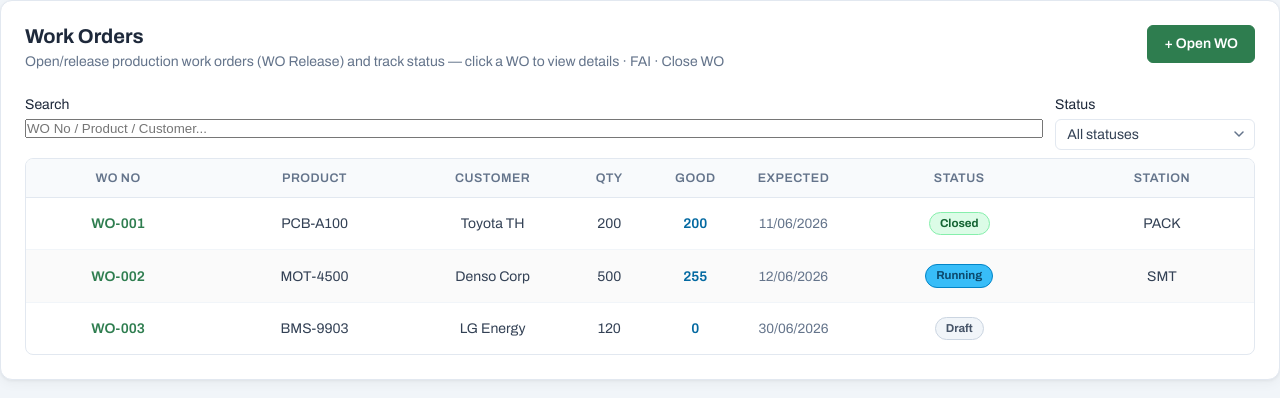
Test: WorkOrdersPage search/filter › search box filters by customer name (case-insensitive)
In the field with placeholder "WO No / Product / Customer...": (534, 128) [25, 119, 1043, 138], type "denso"
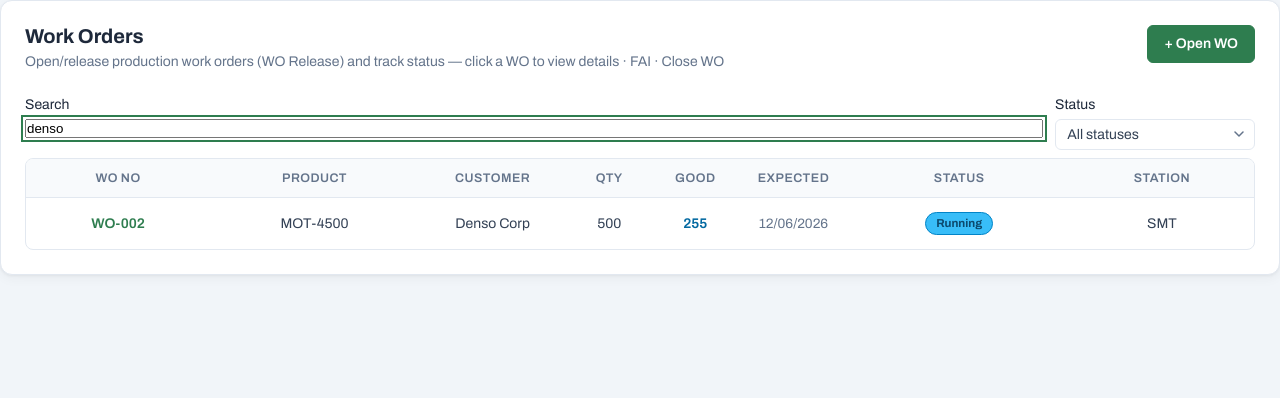
Check: the text "WO-002" is shown, box [26, 198, 210, 250]
Check: the button "WO-001" is gone
